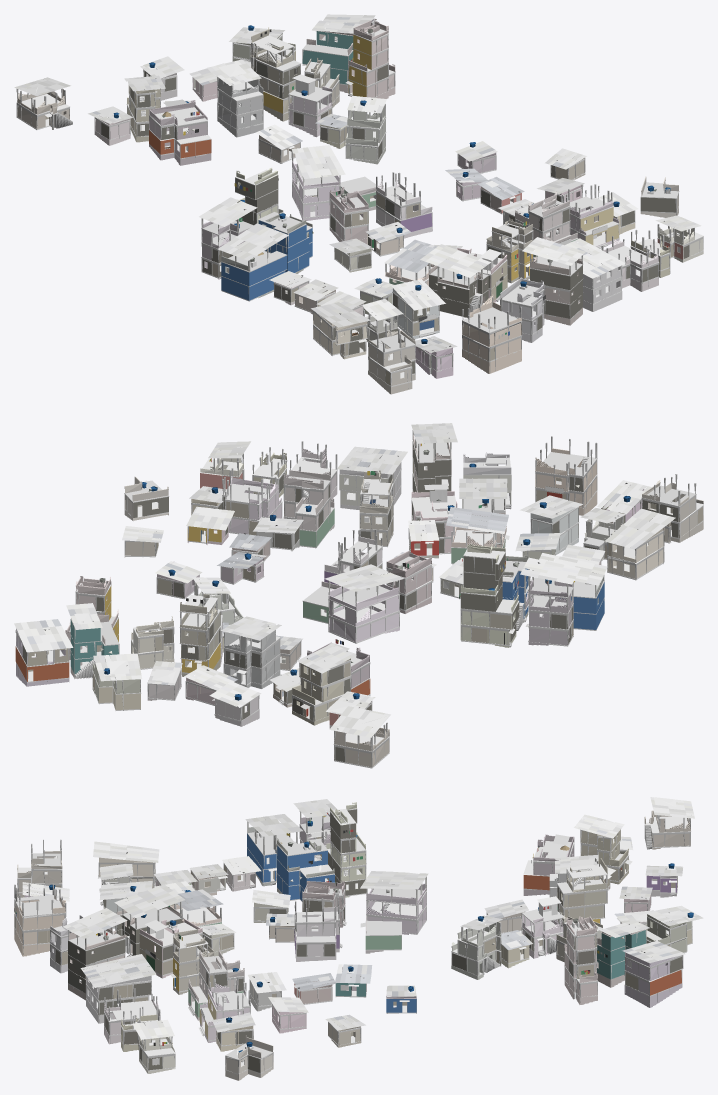
The picture shows the model from 3 angles, top to bottom: view 1: azimuth 30°, elevation 25°; view 2: azimuth 150°, elevation 25°; view 3: azimuth 270°, elevation 25°; orthographic projection. The views are drawn at different scales.
Parts seen in each view (by area): view 1: T_29_24; view 2: T_29_24; view 3: T_29_24.
Part boxes in pixels (left/top/right/bottom): T_29_24: left=14, top=14, right=703, bottom=394; T_29_24: left=14, top=423, right=703, bottom=768; T_29_24: left=14, top=797, right=703, bottom=1080.
Bounding box in the file's own units: 91.36 × 22.26 × 125.
